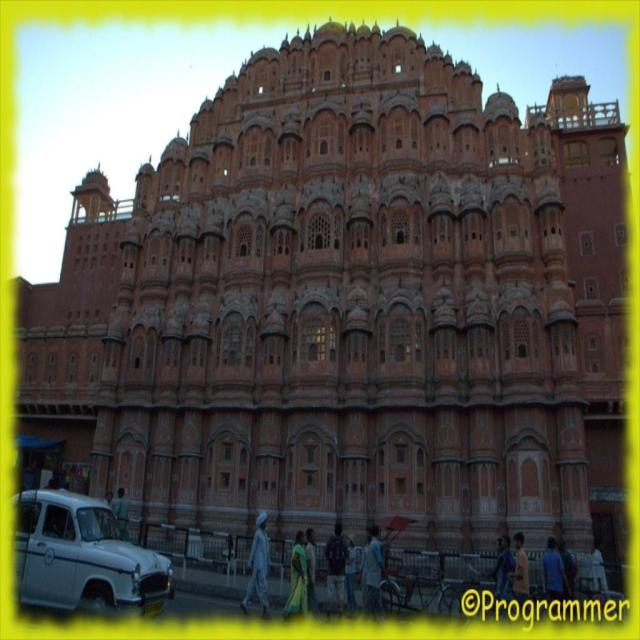car: (10, 480, 170, 629)
